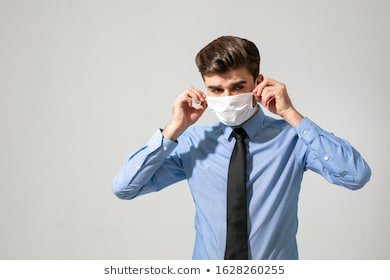mask: (192, 40, 269, 133)
